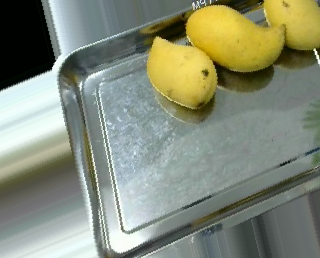Mango: (185, 3, 289, 78), (139, 31, 221, 117), (261, 0, 320, 52)
